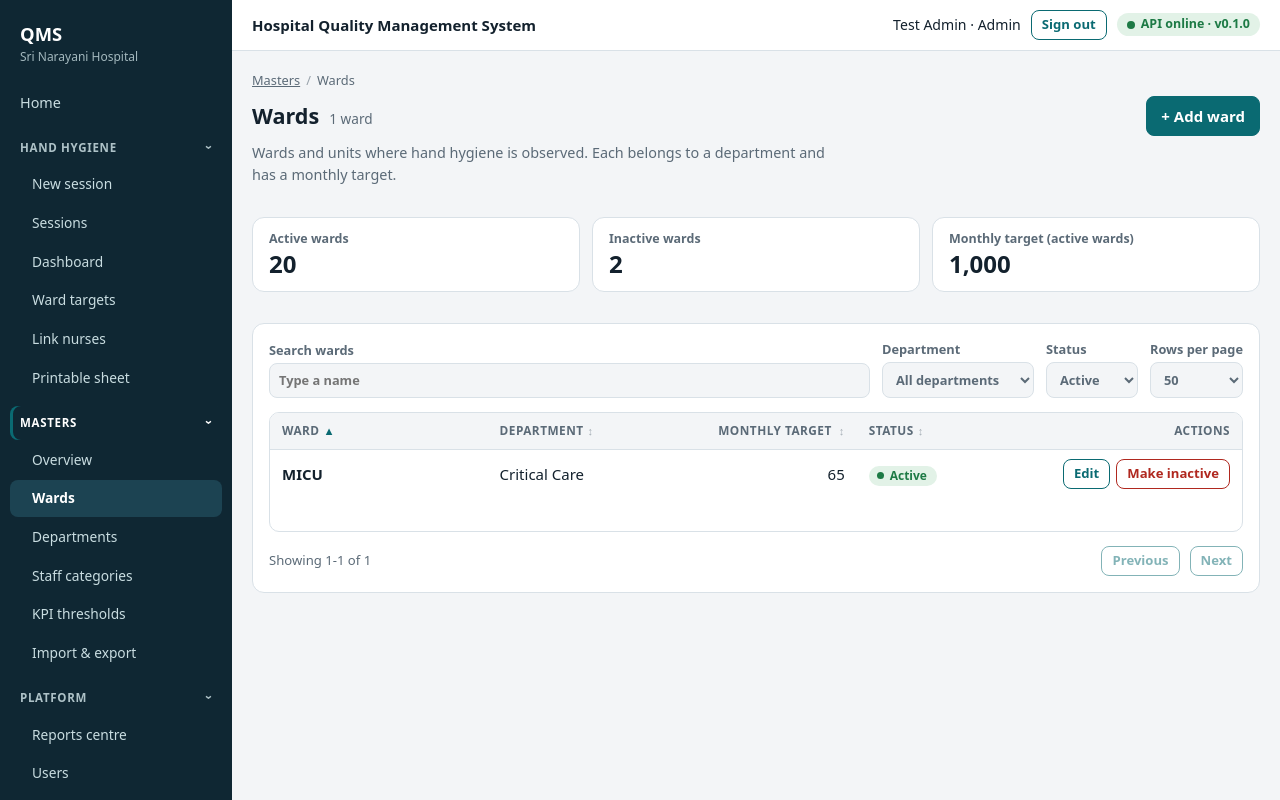
Scenario: Wards page › shows a 409 conflict inside the drawer and keeps it open
Expected: the text "MICU" is shown, [282, 464, 323, 484]
Click the button "+ Add ward" at (1203, 116), box [1146, 96, 1260, 136]
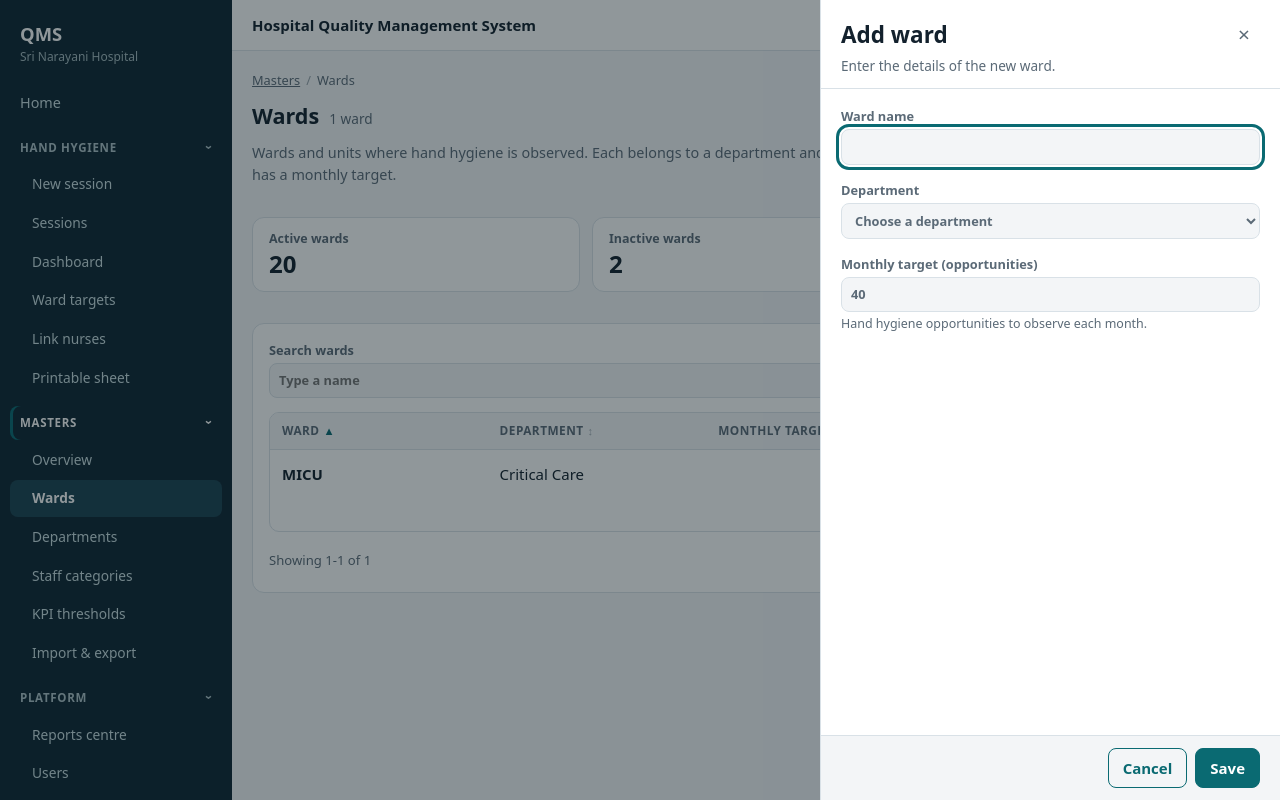
Type "MICU" into the field labelled "Ward name" at (1050, 147), box [841, 129, 1260, 164]
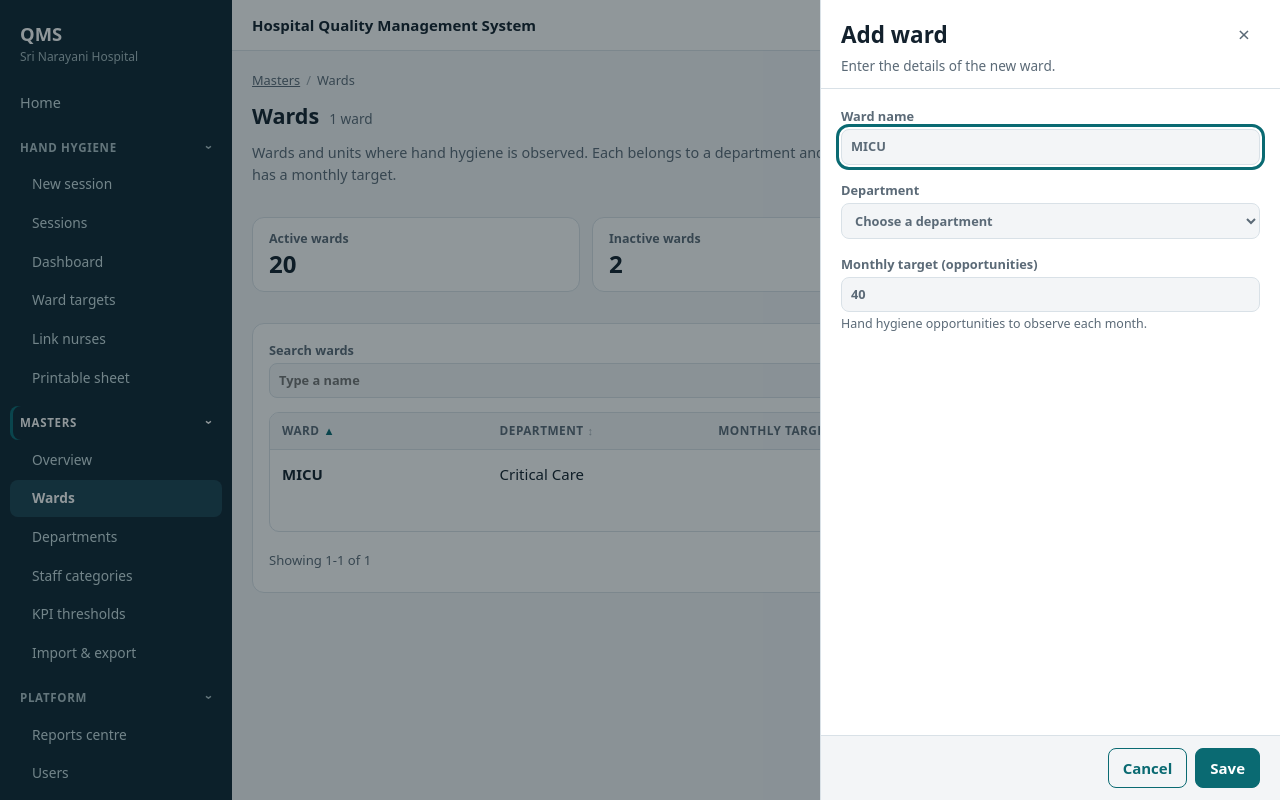
Select "Critical Care" in the dropdown labelled "Department" at (1050, 221), box [841, 203, 1260, 239]
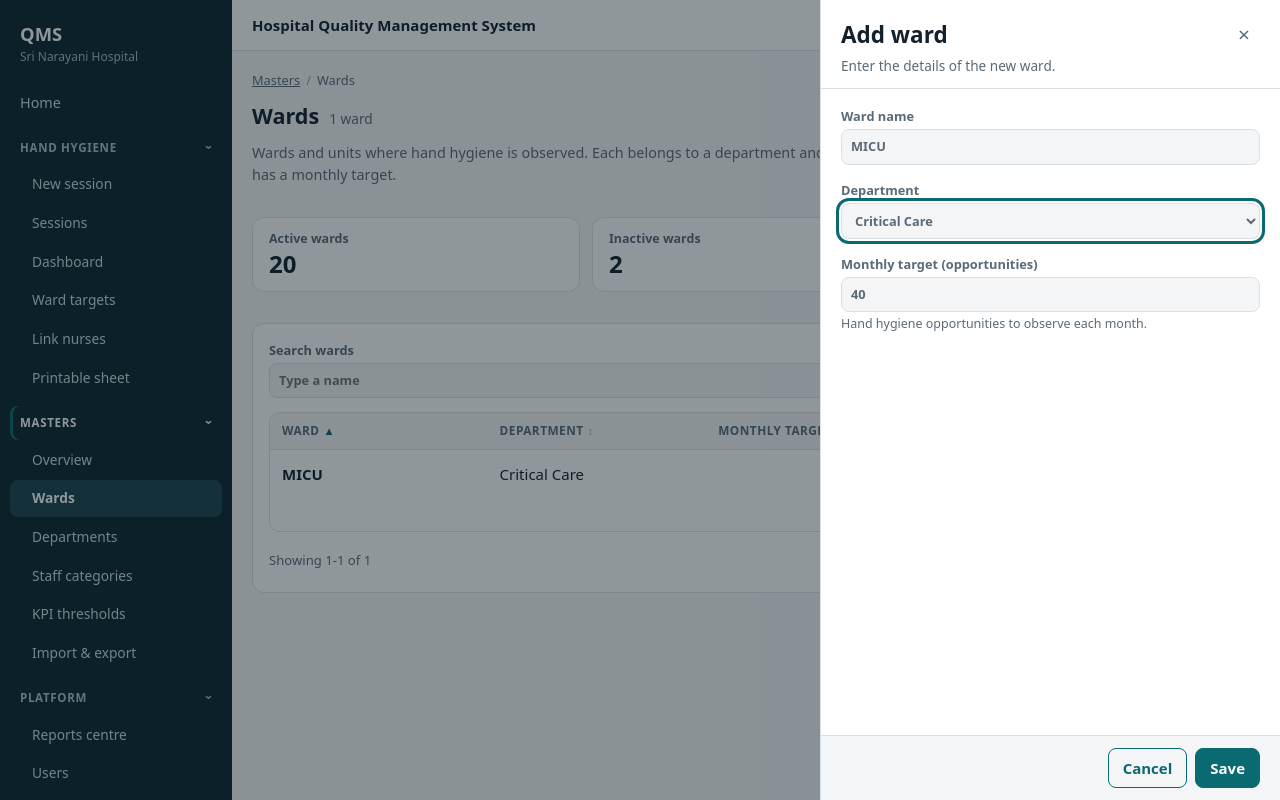
Click the button "Save" at (1228, 768), box [1195, 748, 1260, 788]
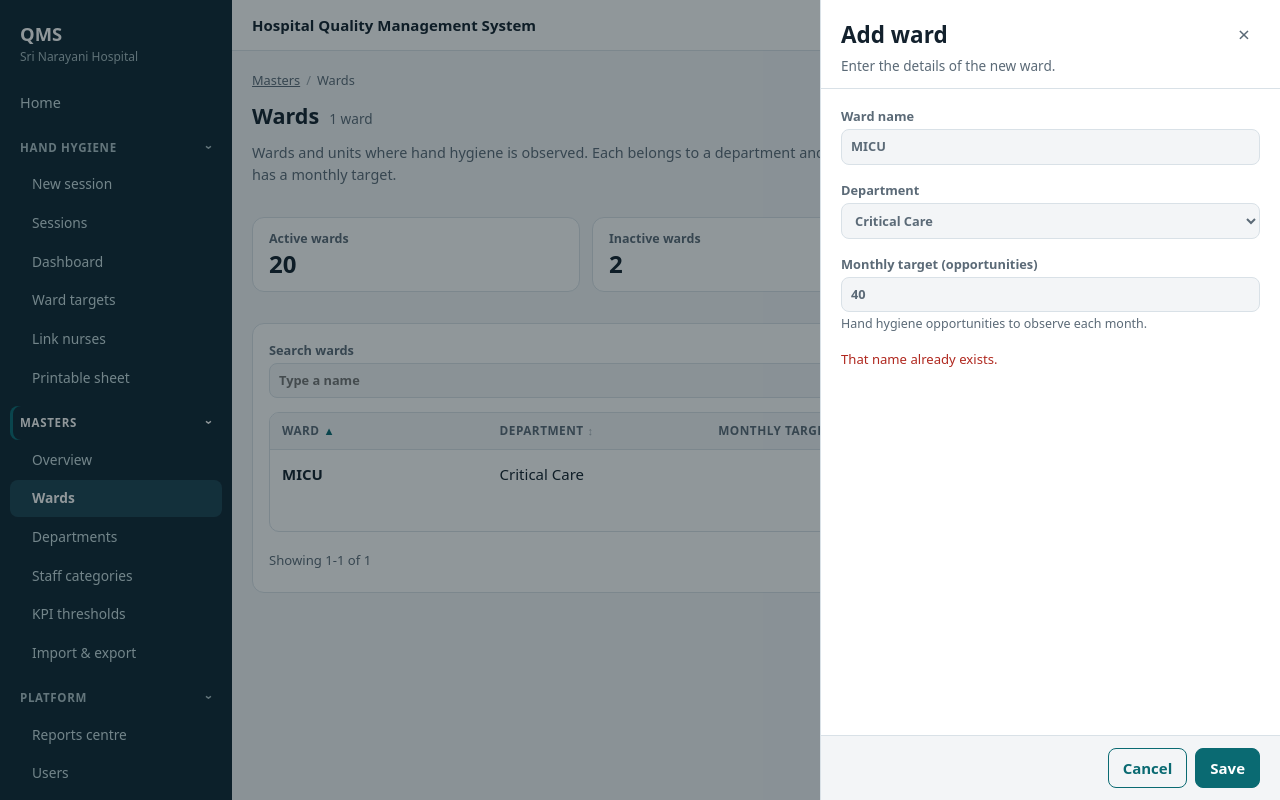
Expected: the text "That name already exists." is shown, [841, 350, 998, 368]
